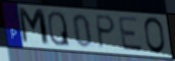0: (71, 13, 94, 48)
E: (117, 16, 145, 54)
M: (16, 6, 52, 48)
O: (143, 16, 167, 56)
P: (95, 14, 117, 50)
Q: (47, 10, 72, 47)
